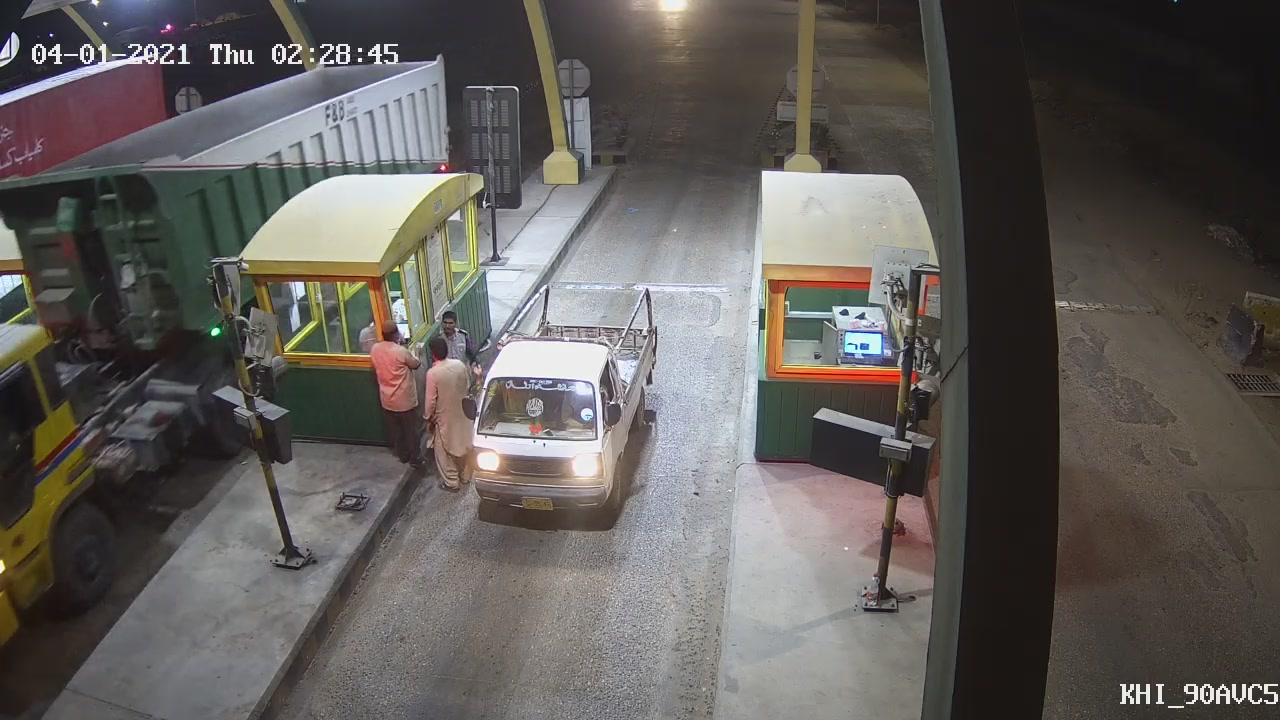F1: (467, 270, 670, 544)
